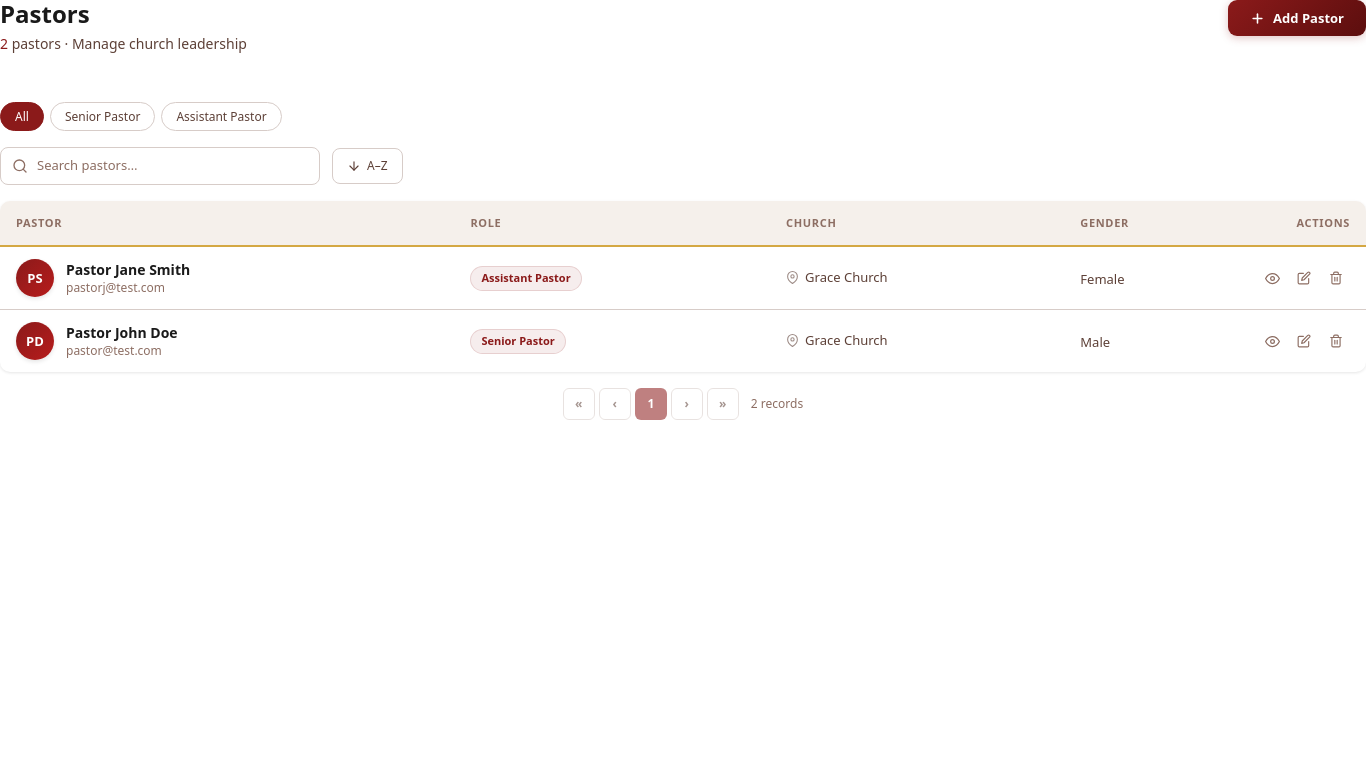
Test: Pastors › closes create form via close button
Click the button "Add Pastor": (1297, 18) [1228,0,1365,36]
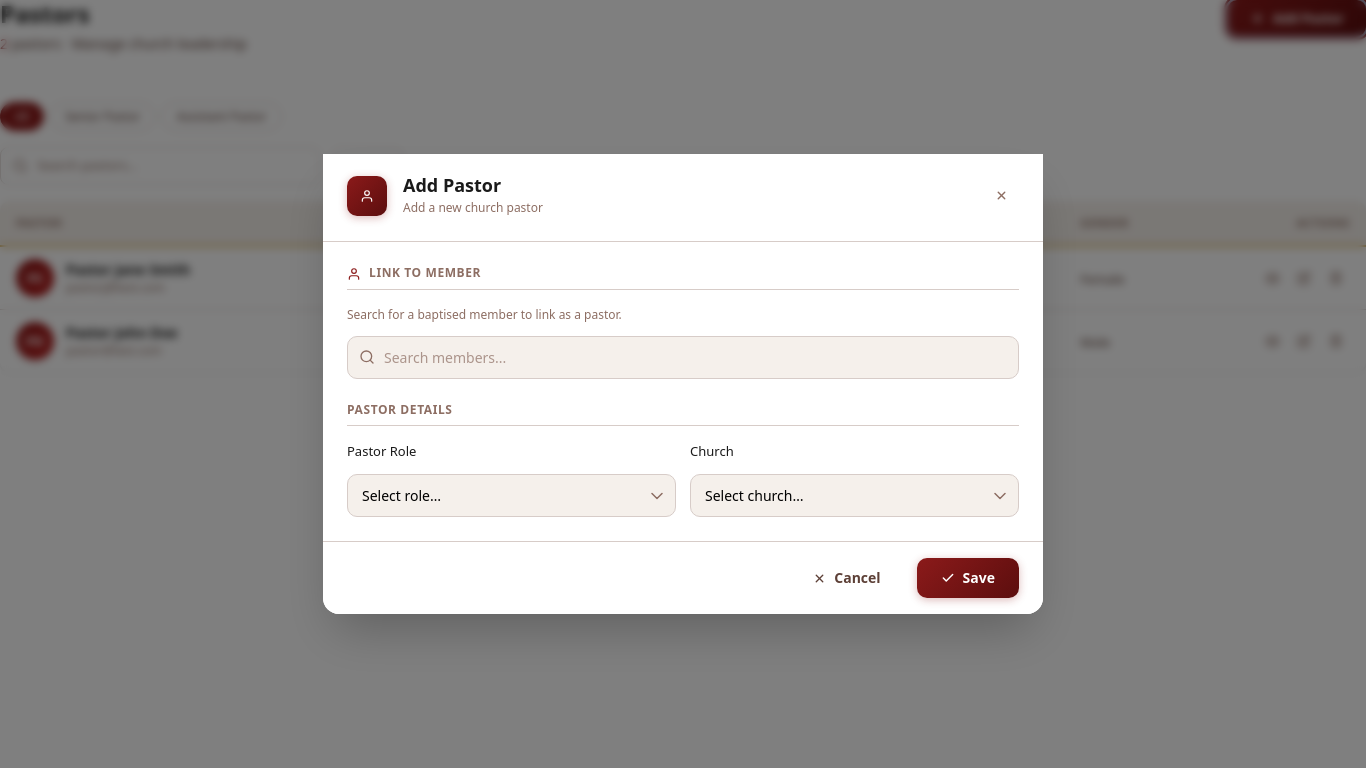
Click the button with class "mf-close": (1001, 196) [983,178,1019,214]
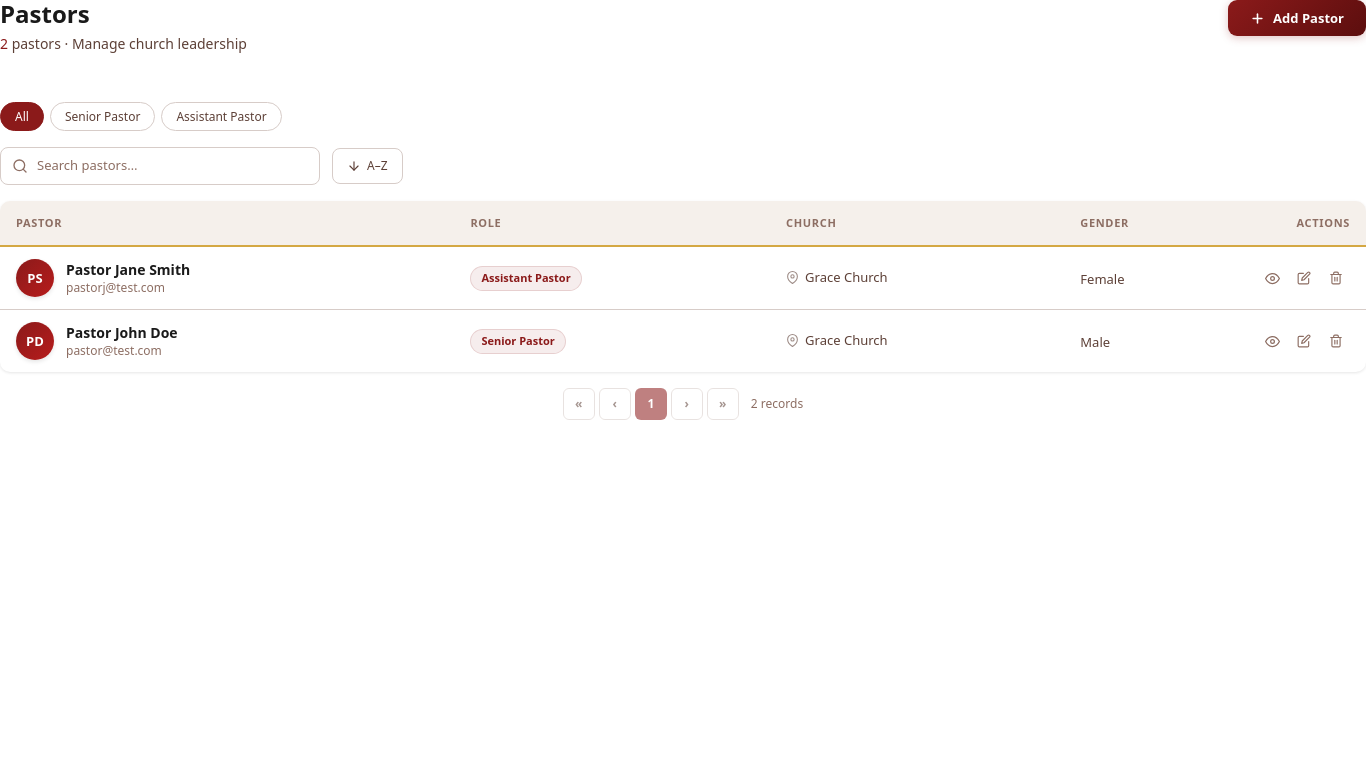
Expected: the text "Add a new church pastor" is gone
